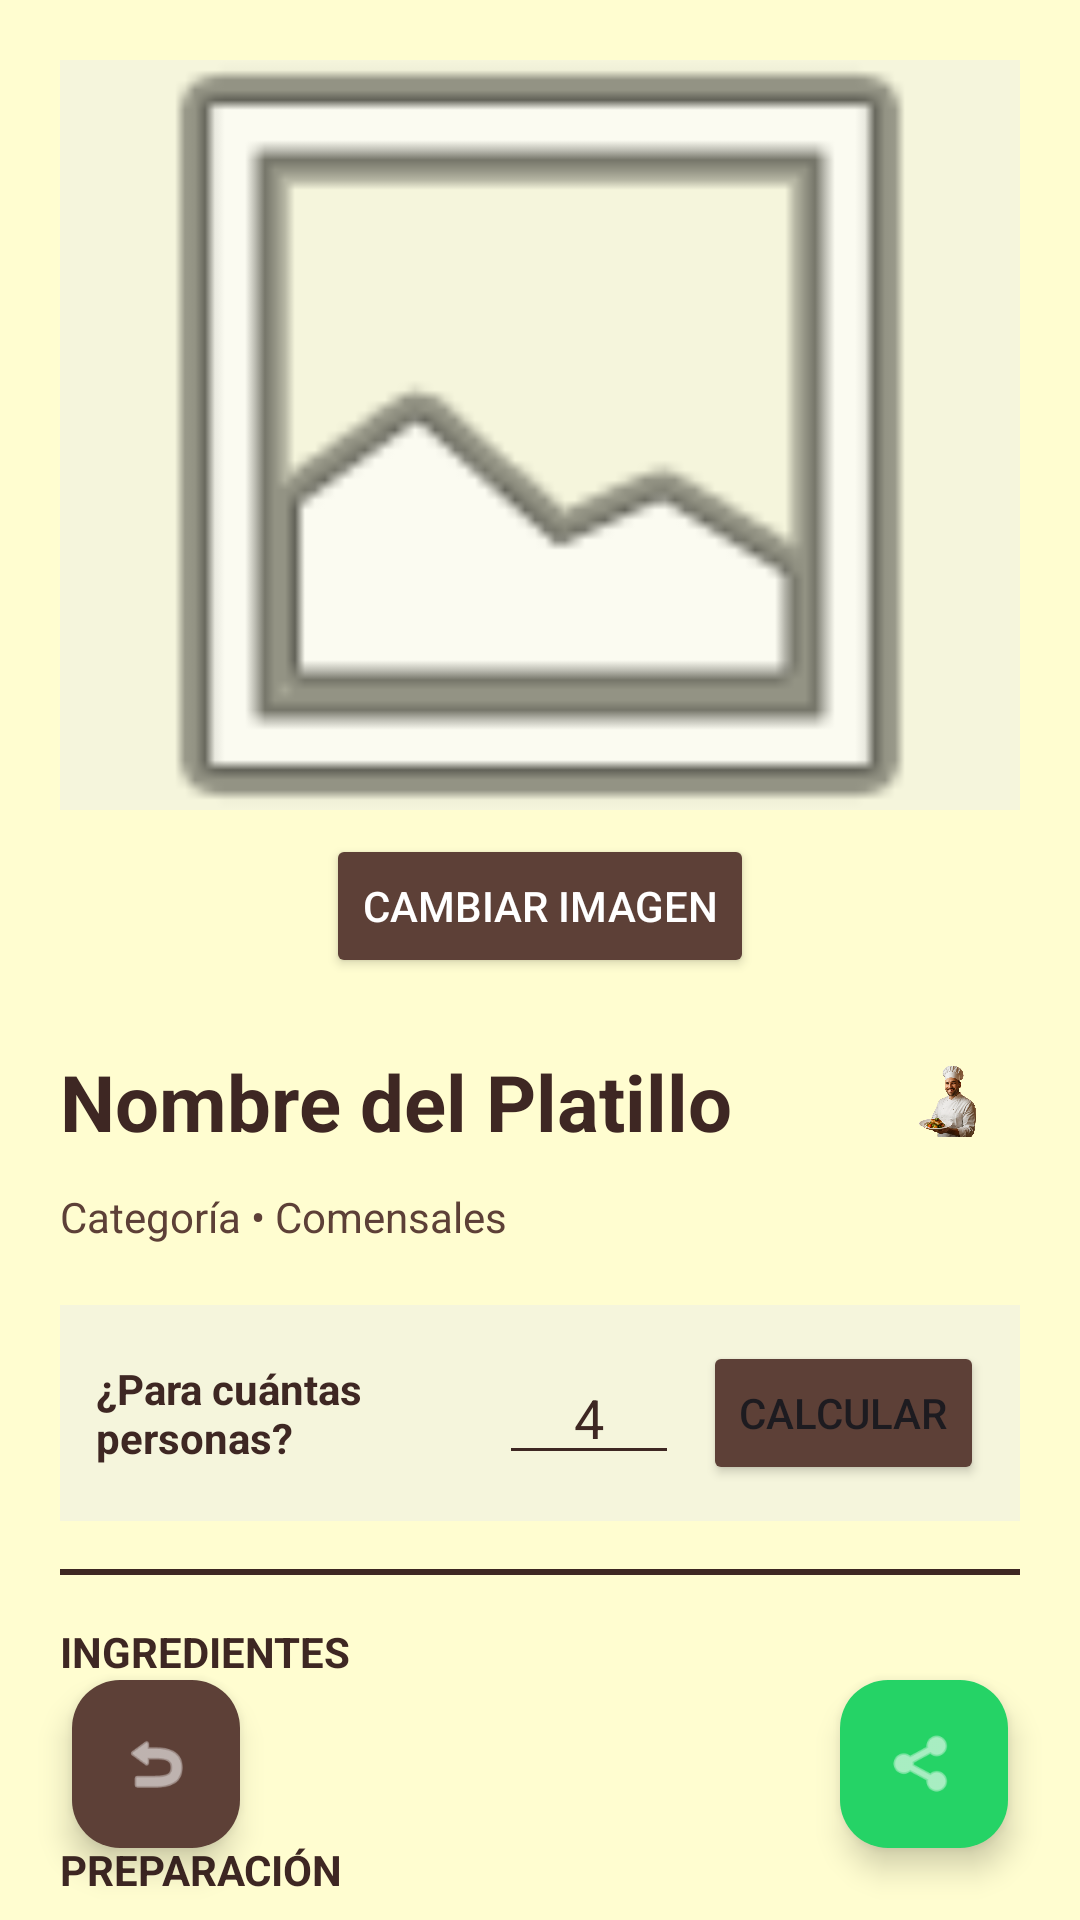

Where icons sit on this 1080x1920 app screen, as (x1=x1, y1=y1, x2=x2, y2=y2):
Compartir por WhatsApp: (x1=840, y1=1680, x2=1008, y2=1848)
Volver: (x1=72, y1=1680, x2=240, y2=1848)
